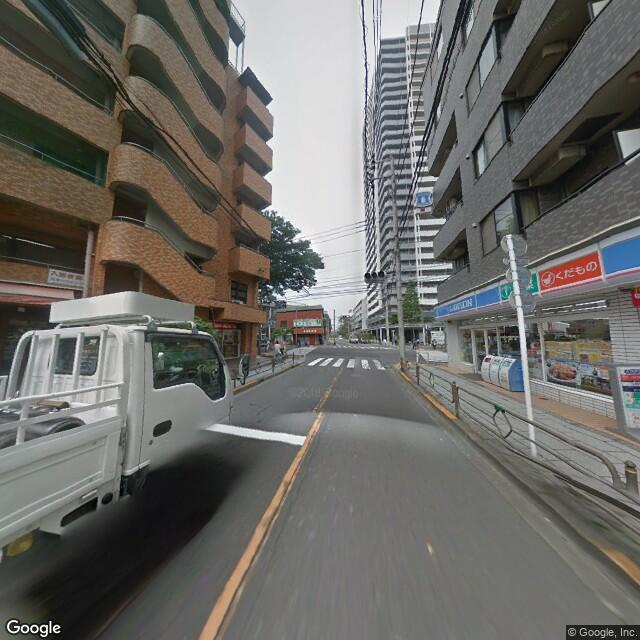lawson: (436, 220, 640, 318), (413, 186, 435, 210)
